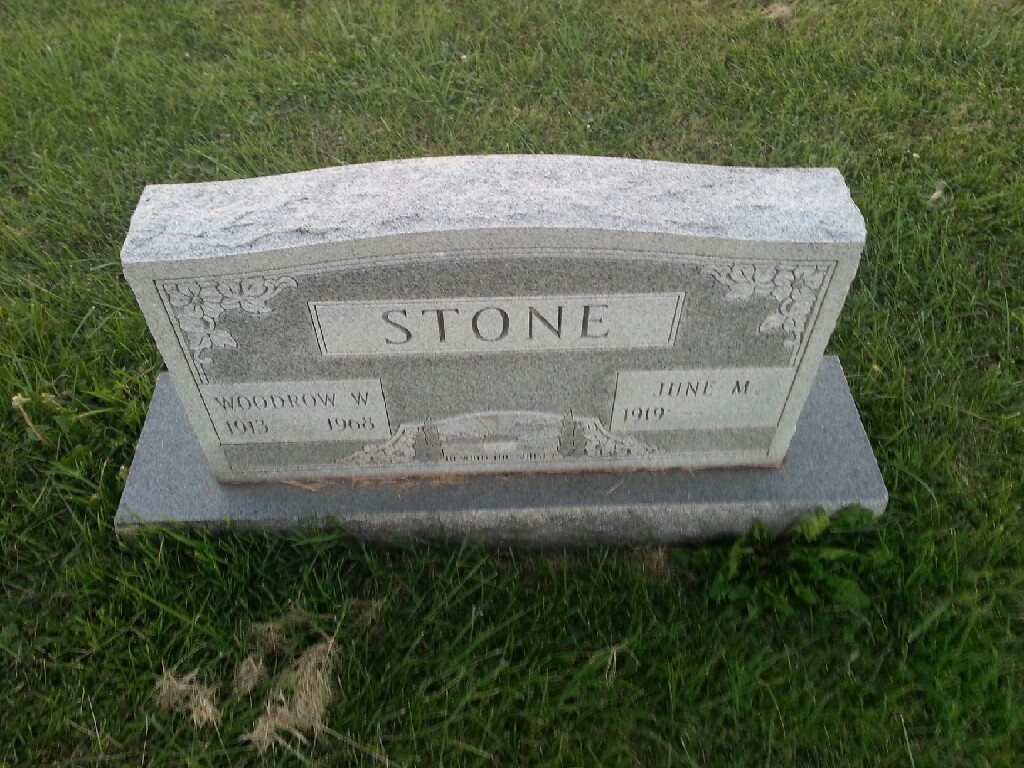upright: (104, 141, 923, 561)
